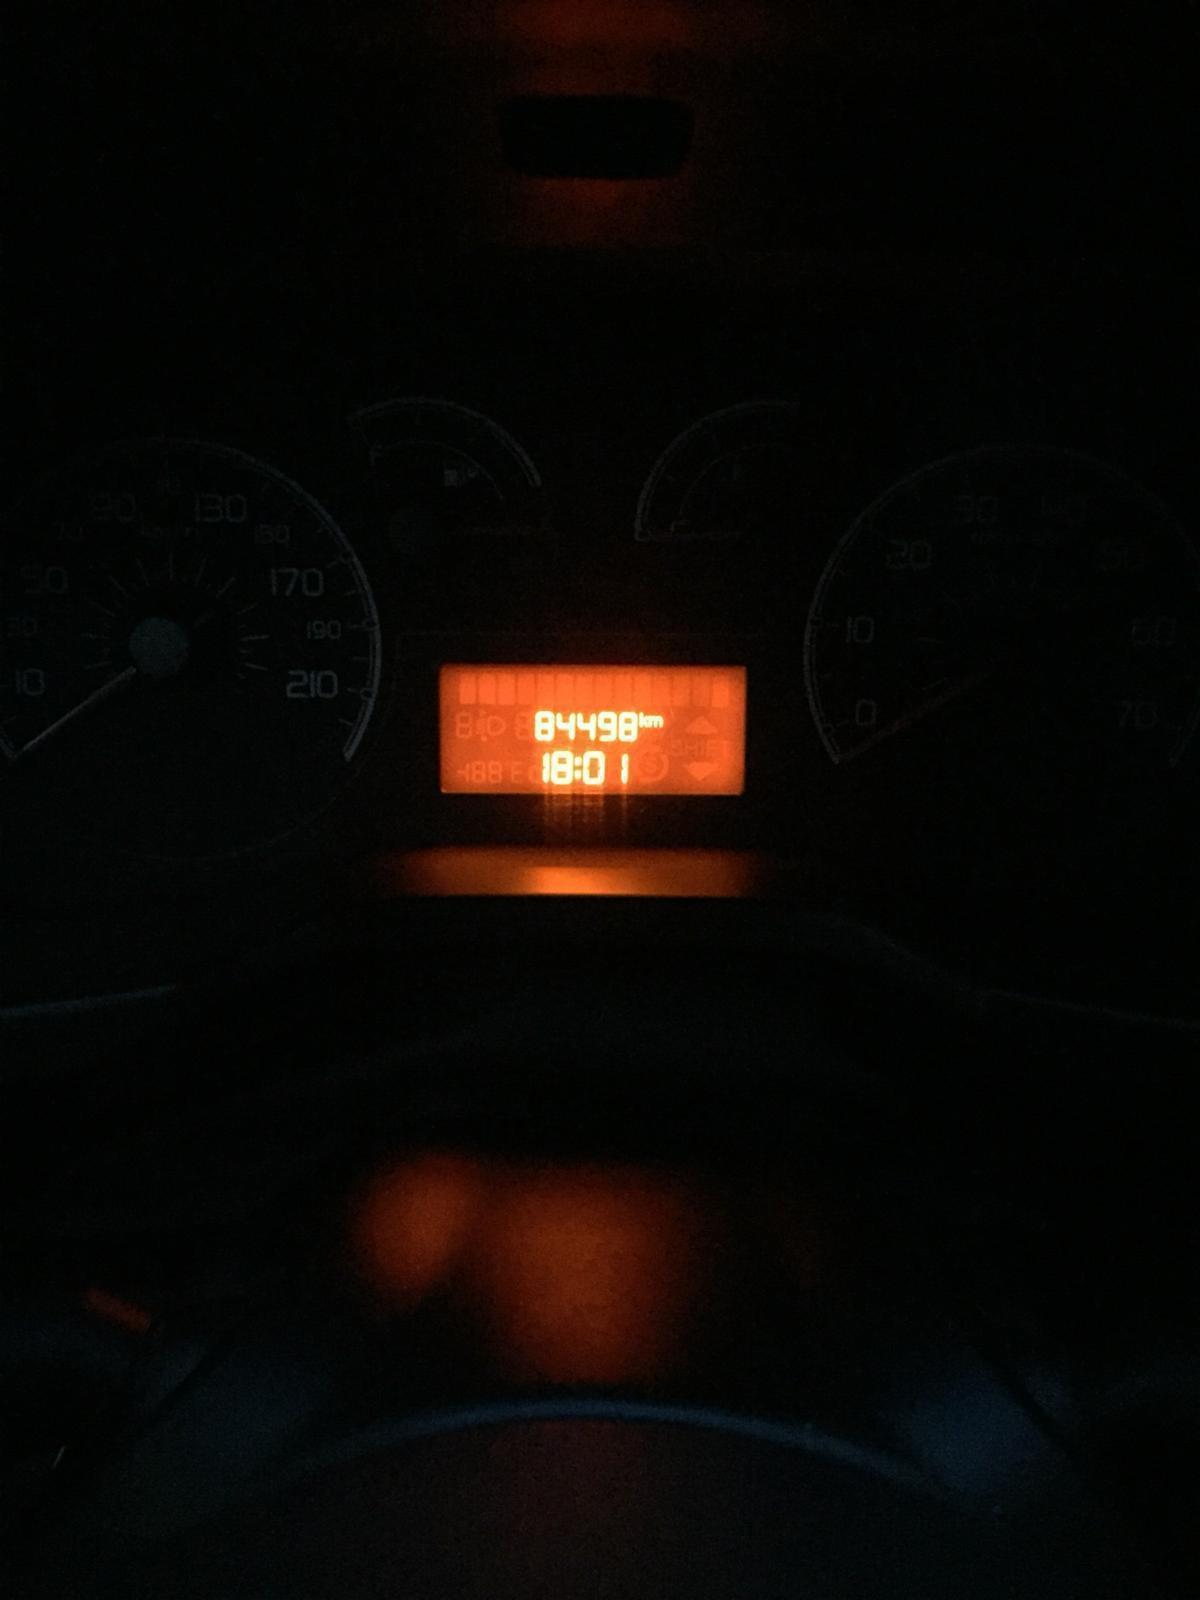0: (582, 748, 606, 785)
1: (616, 750, 632, 786), (539, 750, 550, 784)
4: (556, 711, 576, 742), (577, 711, 597, 741)
8: (551, 750, 574, 785), (618, 711, 639, 742), (534, 709, 556, 741)
9: (597, 711, 618, 742)
X: (648, 714, 664, 729), (638, 711, 650, 728), (574, 753, 581, 781)
odometer: (437, 656, 753, 806)
